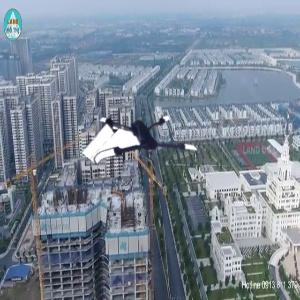drone: (97, 93, 196, 192)
